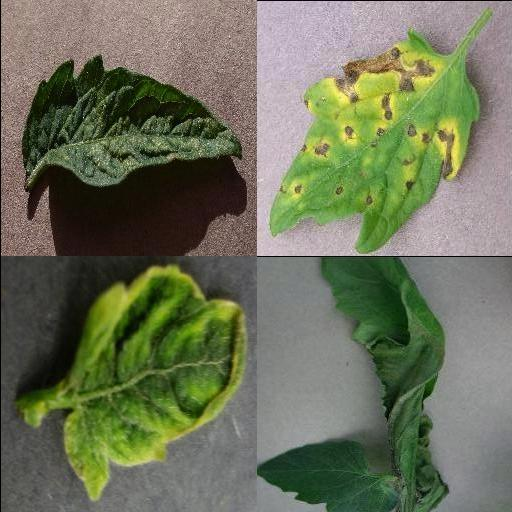Healthy: (256, 436, 397, 512)
Late Blight: (319, 256, 447, 512)
Septoria: (267, 32, 483, 252)
Spider Mites: (21, 57, 241, 187)
Yellow Leaf Curl Virus: (60, 267, 248, 504)
